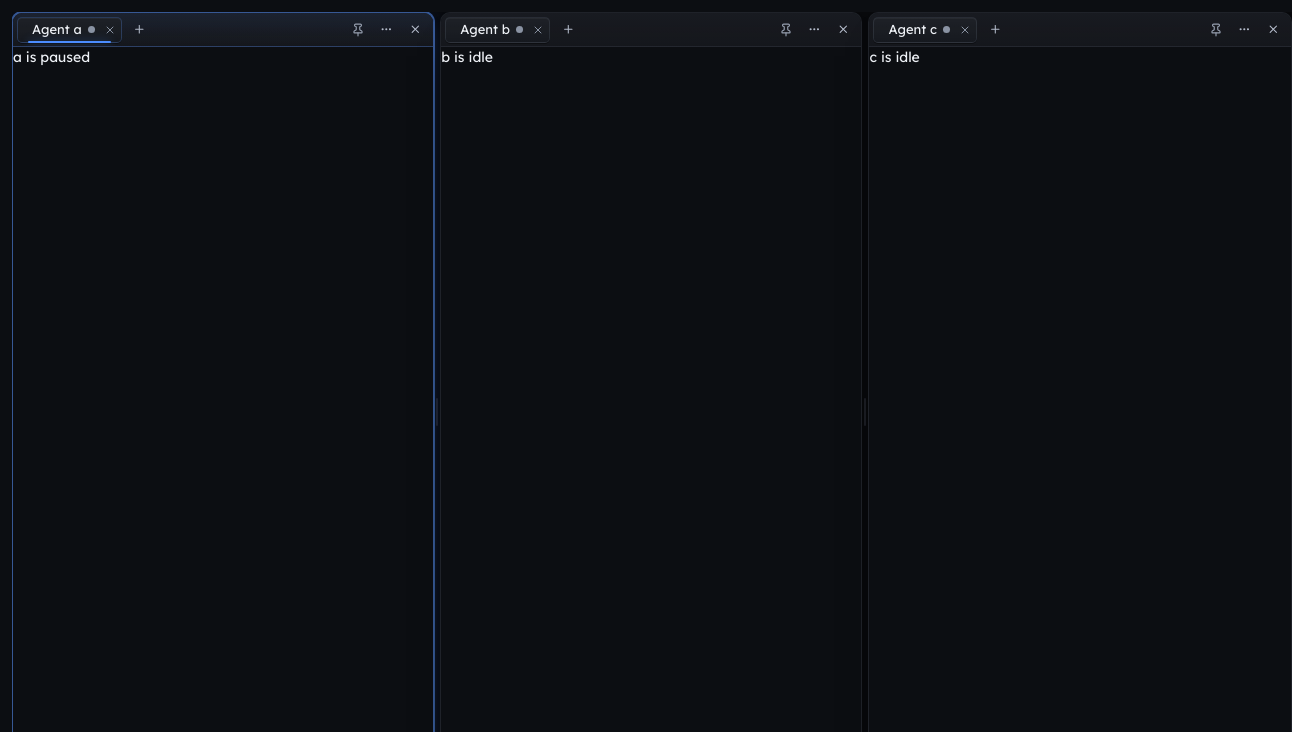
it: a memoized frame's context menu still offers the host's current actions
expect the text "a is idle" is shown: met, box [13,48,90,66]
Step 1. Right-click the tab "Agent a" → [69, 30], box [17,16,122,42]
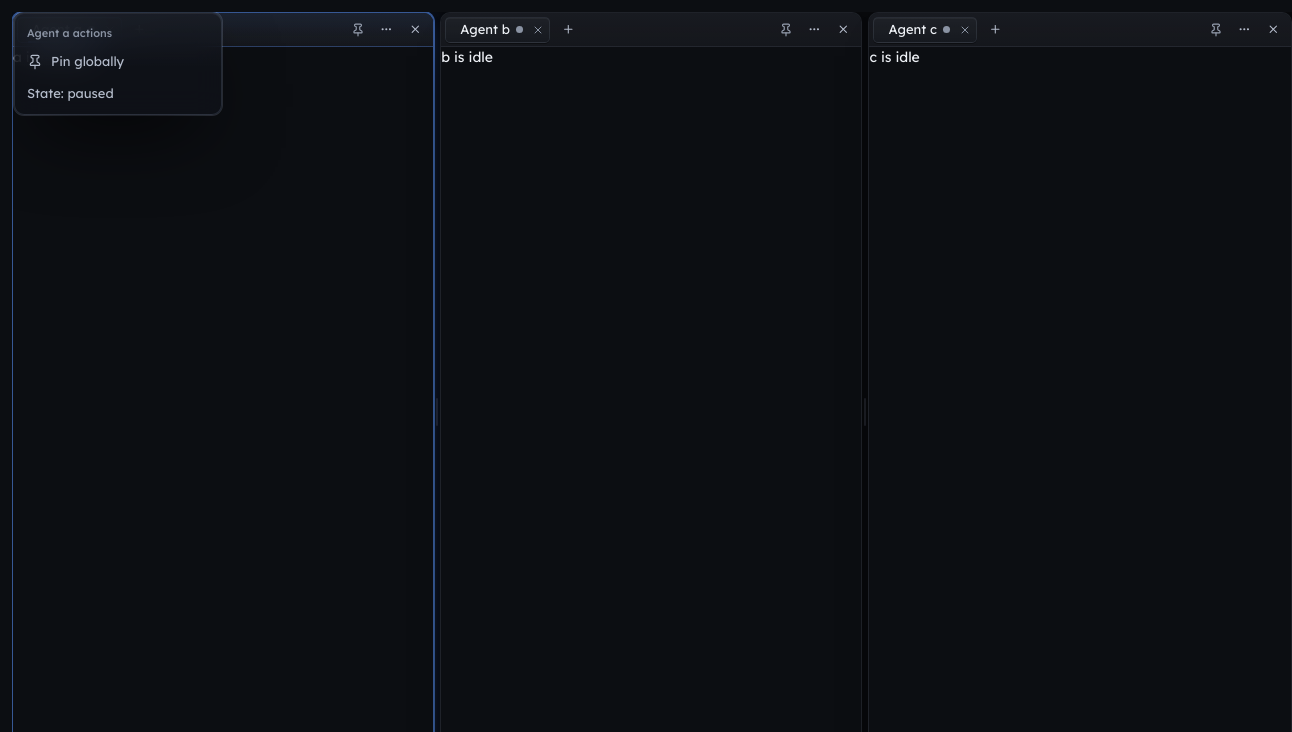
expect the menu item "State: paused" is shown: met, box [27,85,114,101]
